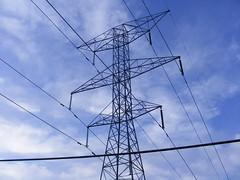power_tower: (60, 7, 187, 180)
